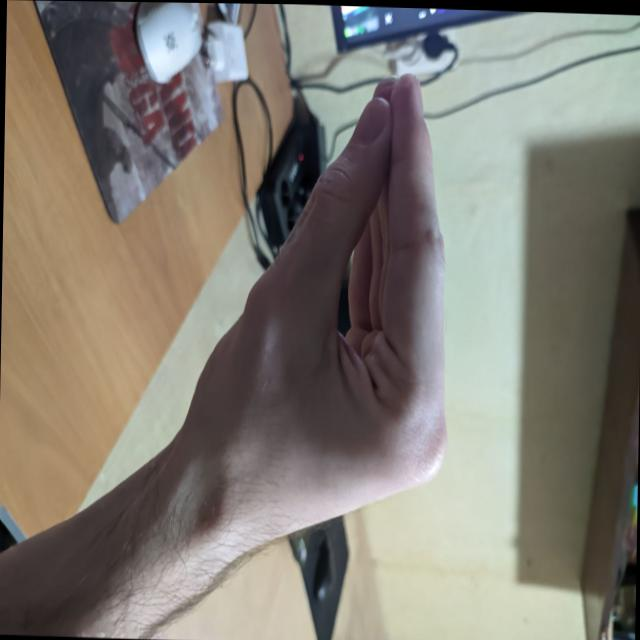zh: (197, 49, 461, 590)
